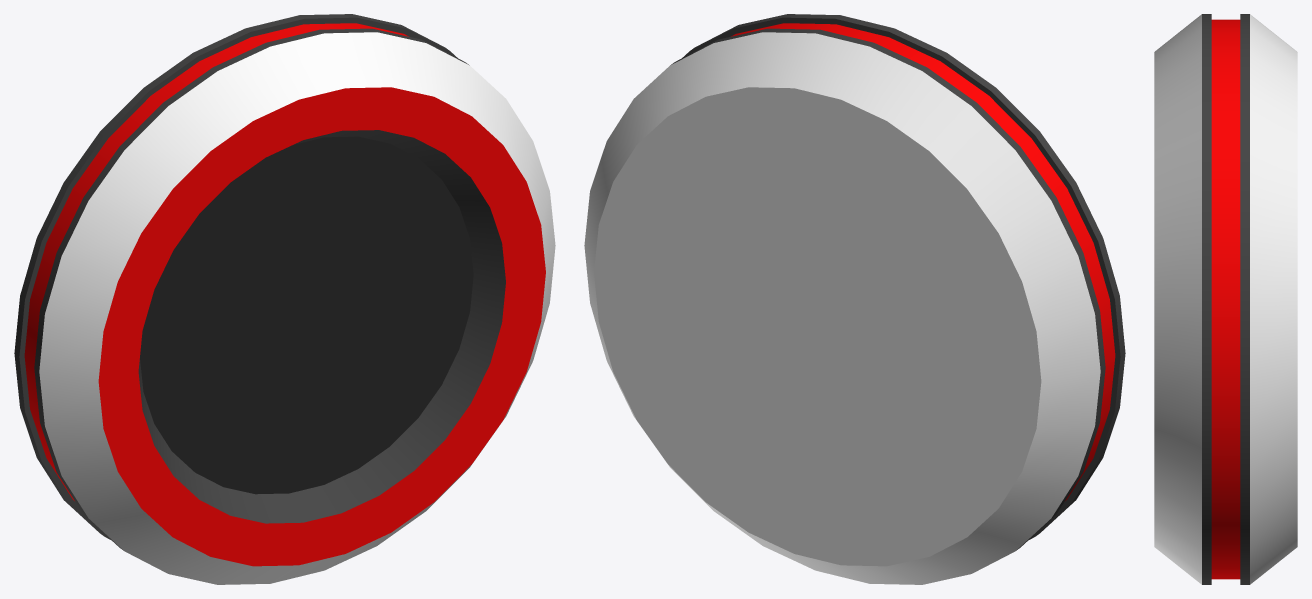
The model's file is starPort.obj.
3 renders of one model, left to right at view 1: azimuth 30°, elevation 25°; view 2: azimuth 150°, elevation 25°; view 3: azimuth 270°, elevation 25°, orthographic. The views are drawn at different scales.
Parts seen in each view (by area): view 1: ChamferCyl001; view 2: ChamferCyl001; view 3: ChamferCyl001.
Boxes of the visible parts, <box> form: ChamferCyl001: <box>14,14,555,584</box>; ChamferCyl001: <box>584,14,1125,584</box>; ChamferCyl001: <box>1154,14,1297,584</box>.
Size of the model in its own units: 1.2 by 1.19 by 0.3.
